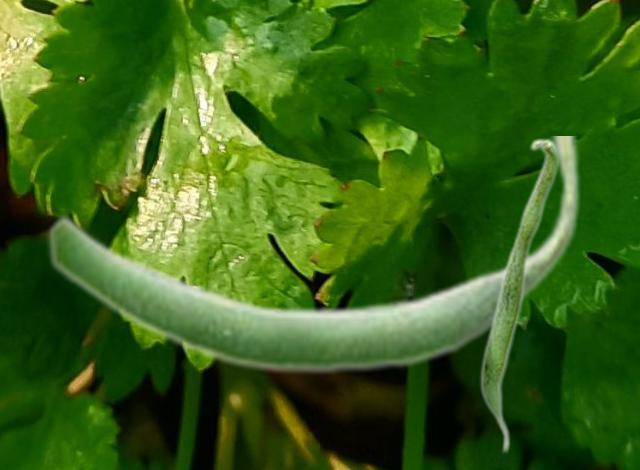french_bean: (46, 136, 581, 376), (479, 137, 559, 454)
